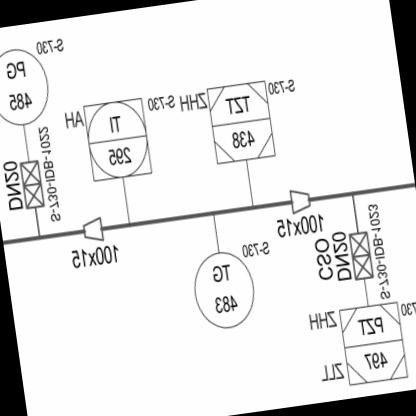LMI: (178, 247, 260, 335), (0, 44, 55, 132)
TAG: (80, 90, 154, 184)
